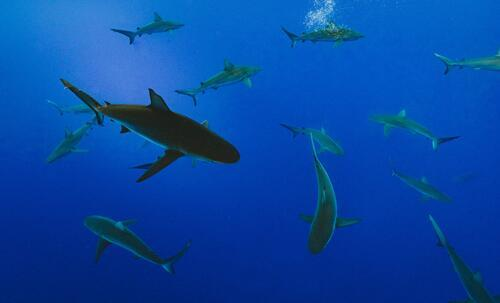shark: (59, 77, 241, 183), (299, 132, 361, 255), (83, 215, 193, 276), (428, 212, 500, 303), (174, 57, 263, 108), (368, 109, 462, 153), (45, 113, 101, 164), (279, 19, 365, 49), (110, 12, 186, 45), (279, 122, 345, 157), (391, 169, 453, 203), (432, 46, 500, 76), (47, 99, 97, 117)
